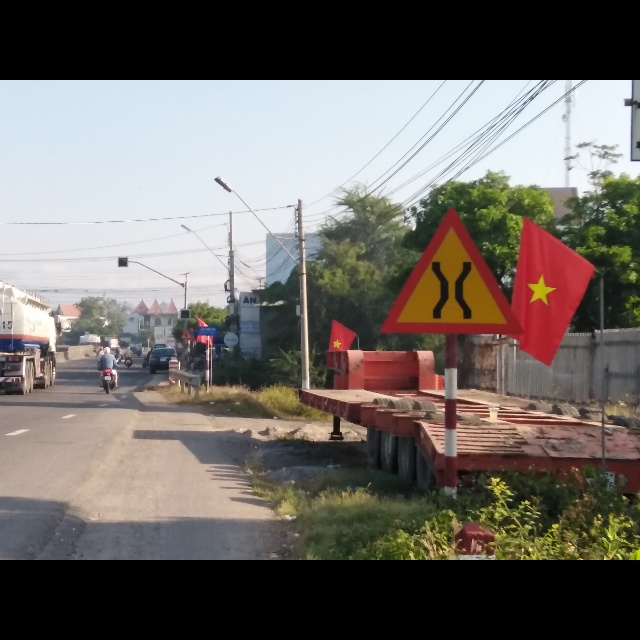Cầu hẹp: (379, 198, 526, 335)
